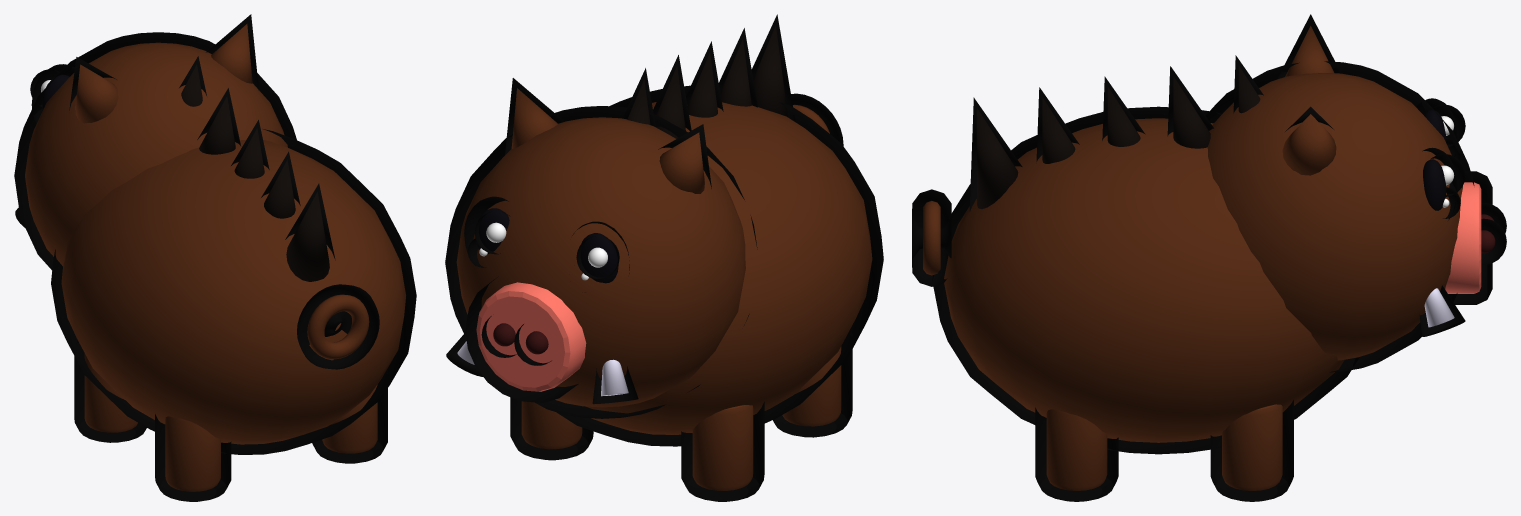
File: Boarlet_2.glb
3 renders of one model, left to right at view 1: azimuth 30°, elevation 25°; view 2: azimuth 150°, elevation 25°; view 3: azimuth 270°, elevation 25°, orthographic. The views are drawn at different scales.
Visible parts, largest first — view 1: Boarlet_2.001; view 2: Boarlet_2.001; view 3: Boarlet_2.001.
Boxes of the visible parts, <box> form: Boarlet_2.001: <box>14,14,416,501</box>; Boarlet_2.001: <box>445,14,883,501</box>; Boarlet_2.001: <box>912,14,1506,501</box>.
Size of the model in its own units: 2.64 by 3.04 by 4.16.
1 material, 1 textured.
